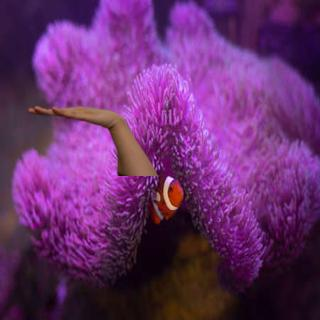WAIT: (25, 98, 118, 131)
